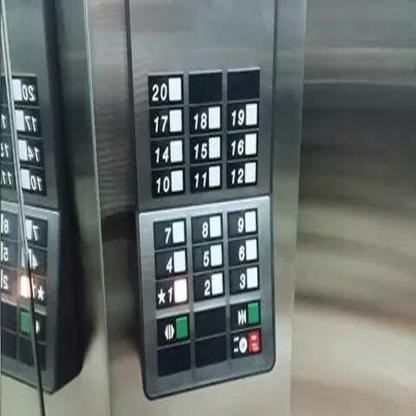10: (149, 164, 185, 198)
11: (188, 159, 222, 193)
12: (225, 155, 258, 189)
14: (148, 134, 185, 168)
15: (188, 130, 223, 164)
16: (224, 127, 258, 161)
17: (147, 103, 184, 139)
18: (187, 100, 223, 134)
19: (225, 96, 260, 132)
2: (192, 268, 226, 301)
20: (146, 70, 184, 107)
3: (227, 262, 260, 296)
4: (153, 243, 188, 279)
5: (191, 238, 224, 273)
6: (226, 231, 258, 266)
7: (152, 214, 187, 250)
8: (190, 210, 224, 244)
9: (226, 206, 258, 238)
close: (227, 296, 261, 330)
empty: (186, 67, 223, 105), (156, 338, 192, 376), (193, 330, 228, 367), (226, 64, 260, 102), (192, 301, 226, 339)
open: (155, 308, 191, 349)
s1: (154, 273, 189, 309)
stop: (228, 325, 264, 361)
